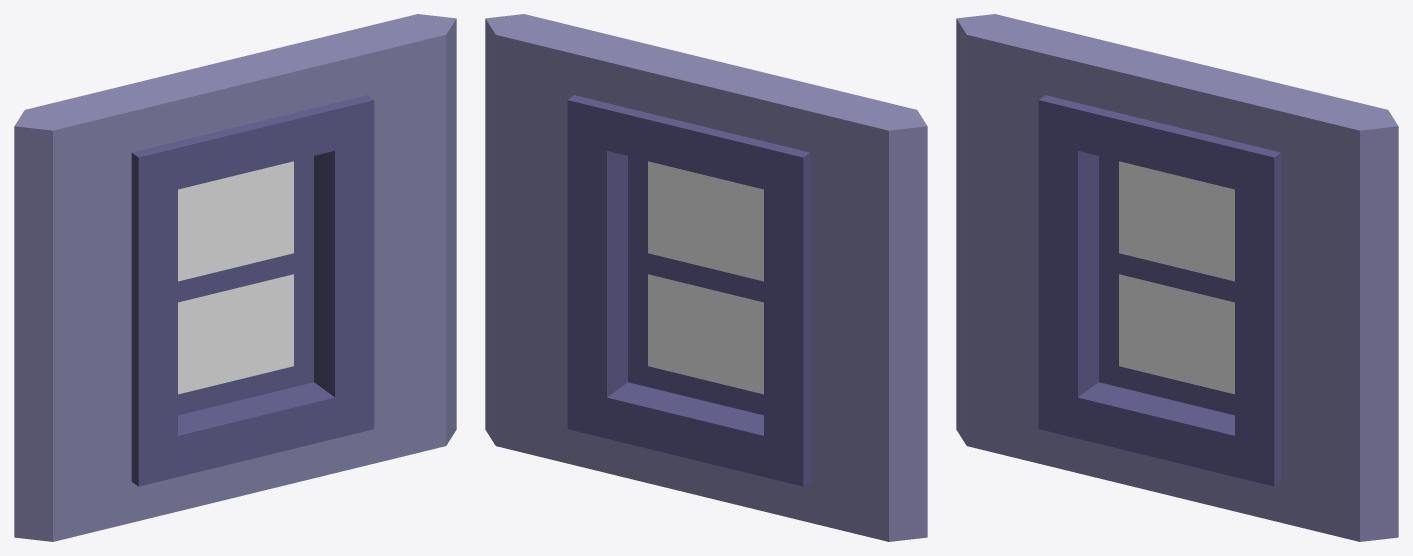
The model's file is window_closed.fbx.
3 renders of one model, left to right at view 1: azimuth 30°, elevation 25°; view 2: azimuth 150°, elevation 25°; view 3: azimuth 330°, elevation 25°, orthographic.
Visible parts, largest first — view 1: window_closed; view 2: window_closed; view 3: window_closed.
Part boxes in pixels (x1,y1,x2,y2): window_closed: (14, 14, 456, 541); window_closed: (485, 14, 927, 541); window_closed: (956, 14, 1398, 541).
Size of the model in its own units: 11.25 by 10 by 1.85.
